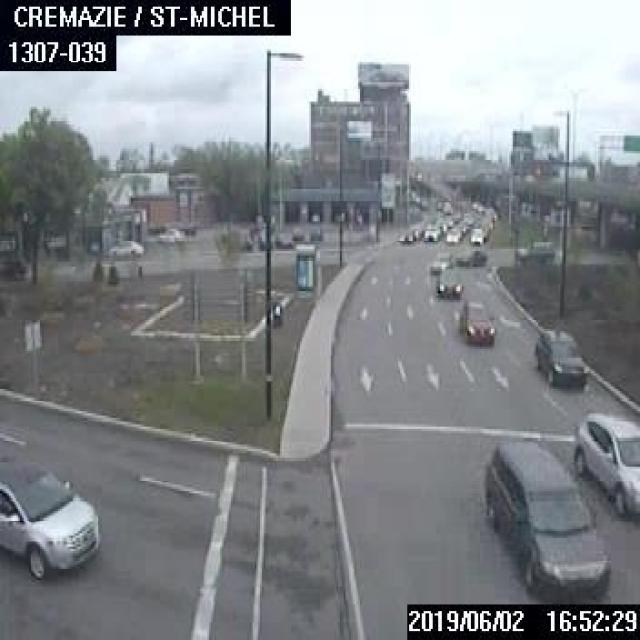vehicle: (484, 440, 610, 600), (0, 456, 100, 580), (572, 408, 638, 516), (532, 325, 589, 382), (458, 300, 494, 345), (512, 240, 554, 262), (436, 268, 464, 298), (106, 238, 142, 256), (427, 250, 452, 272), (154, 226, 184, 244), (274, 230, 293, 247), (422, 222, 439, 238), (469, 225, 483, 243), (444, 225, 458, 243), (397, 227, 412, 242), (308, 226, 322, 238), (291, 227, 303, 238)
